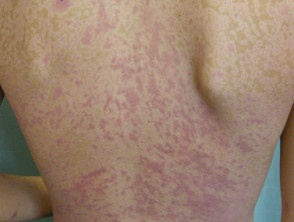SJS-TEN: (20, 0, 272, 222)
